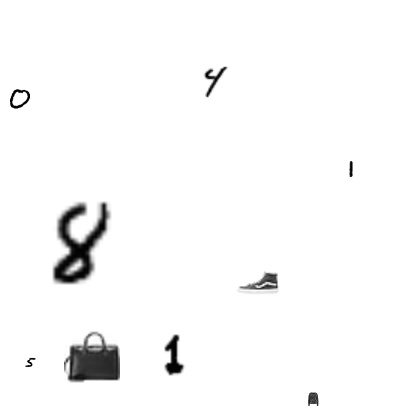0: (5, 84, 33, 112)
1: (145, 329, 201, 385), (340, 158, 362, 180)
4: (192, 58, 234, 100)
5: (23, 355, 37, 369)
8: (22, 187, 134, 299)
Bag: (64, 328, 120, 384)
Pullover: (306, 392, 320, 406)
Sneaker: (237, 261, 279, 303)
